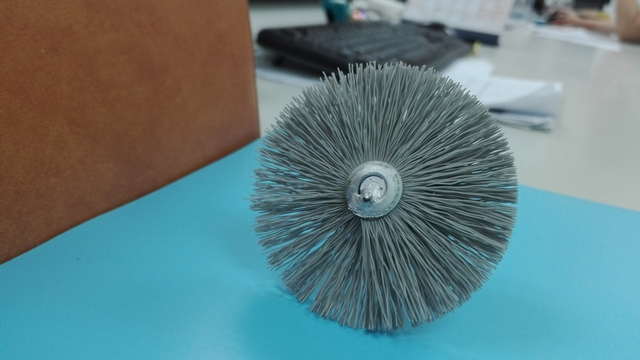TOOL: (173, 29, 589, 351), (234, 56, 553, 347)
